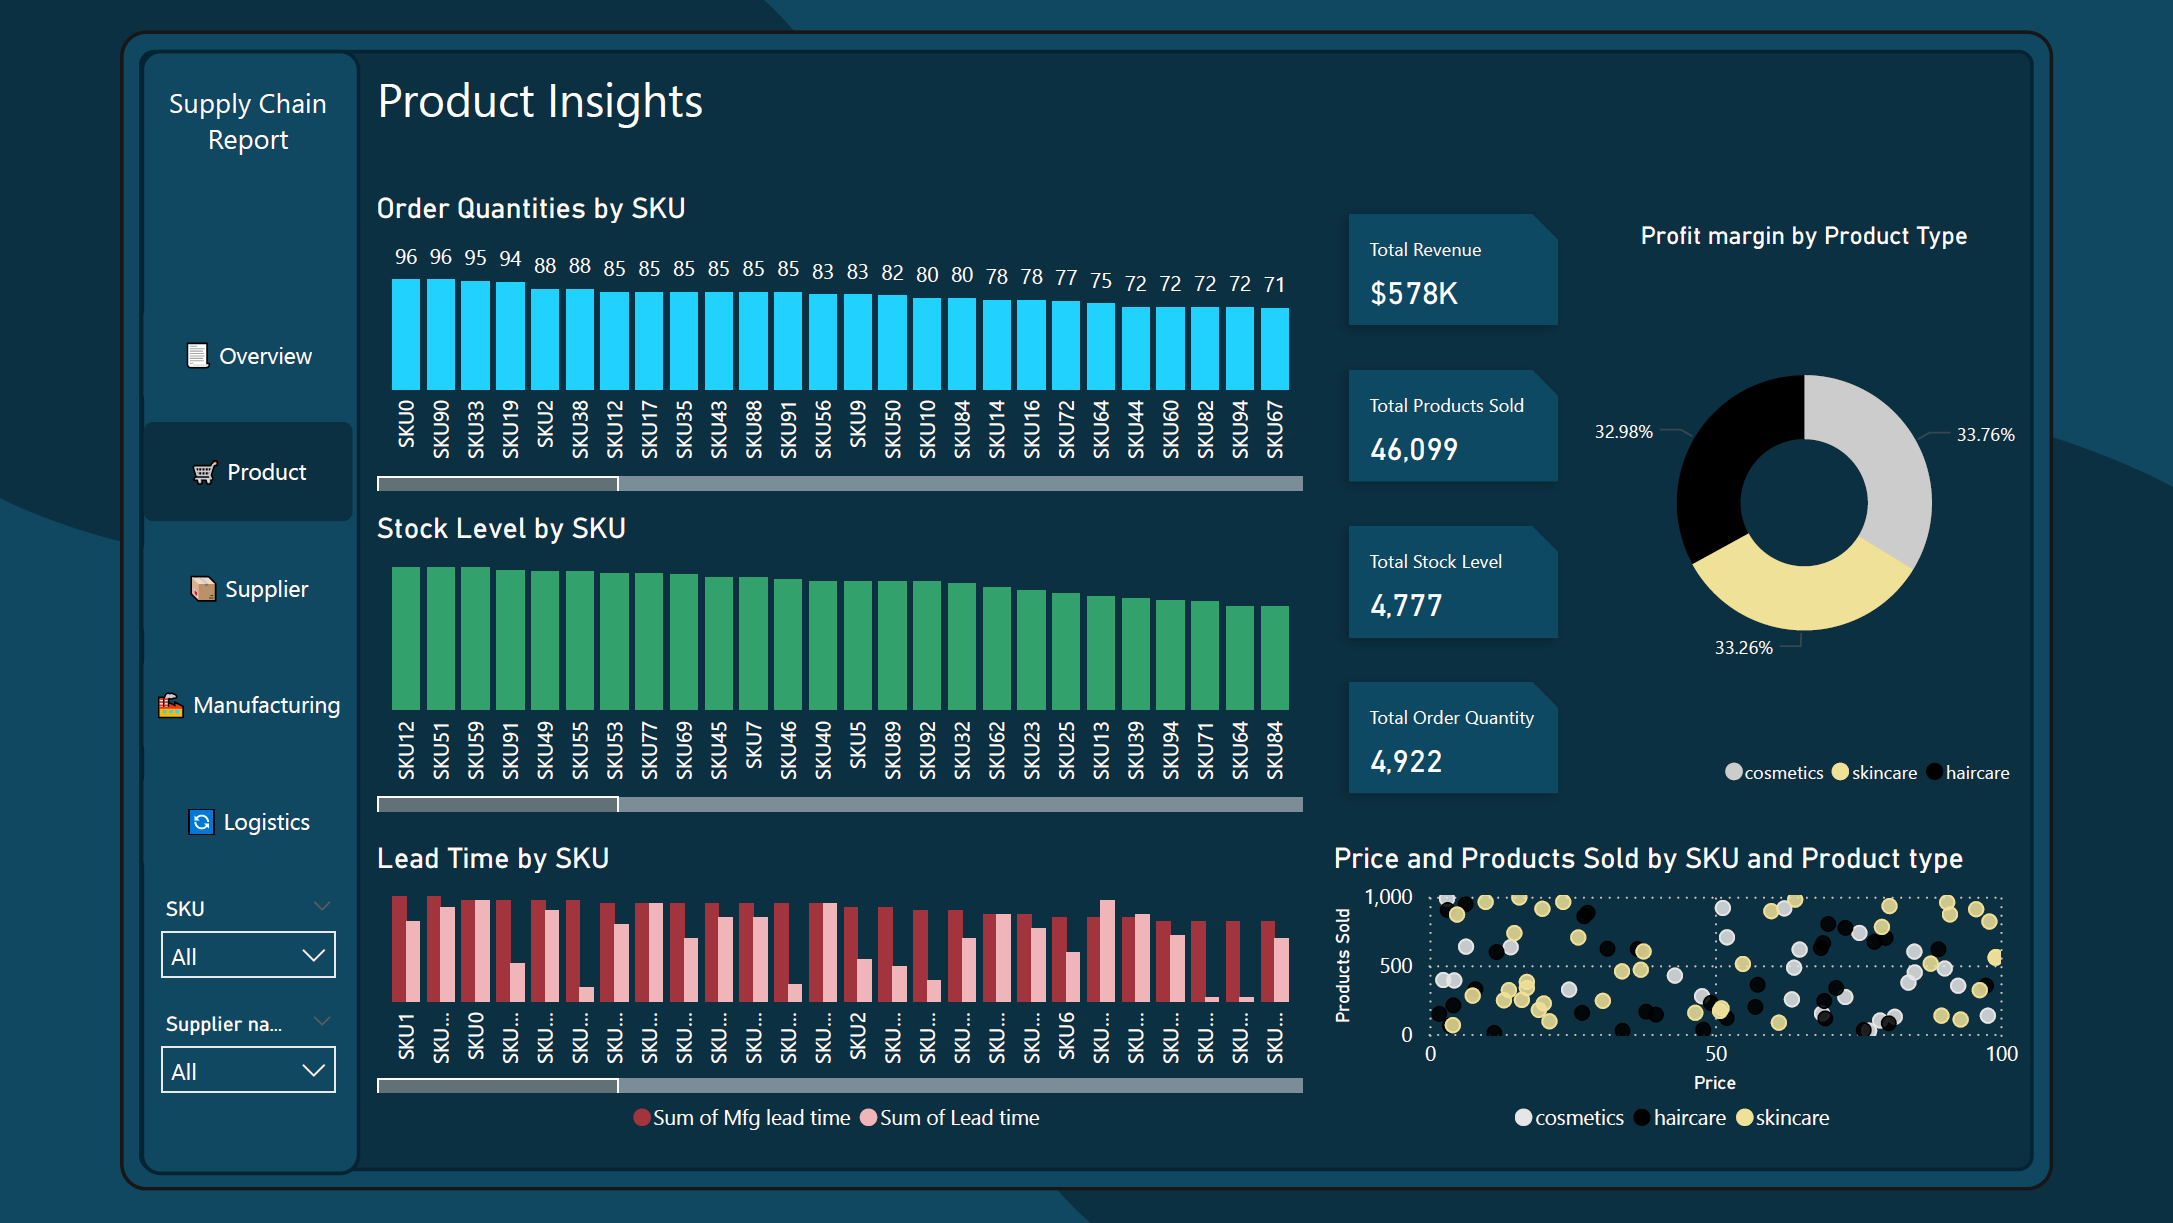

The page's visual inventory and layout, read from the dashboard file:
{"tool":"powerbi","page":{"name":"🛒  Product","canvas":[1280,720],"ordinal":1},"visuals":[{"type":"columnChart","title":"Order Quantities by SKU","fields":{"Y":["Measures (2).Total Order Quantity"],"Category":["supply_chain_data.SKU"]},"box":[220.9,115.3,550,180],"z":0},{"type":"pageNavigator","box":[90.3,181.2,122,330.7],"z":0,"group":"g1"},{"type":"textbox","box":[90.3,47.6,122,62.8],"z":1000,"group":"g1"},{"type":"columnChart","title":"Stock Level by SKU","fields":{"Category":["supply_chain_data.SKU"],"Y":["Measures (2).Total Stock Level"]},"box":[220.9,302,550.4,180],"z":1000},{"type":"clusteredColumnChart","title":"Lead Time by SKU","fields":{"Category":["supply_chain_data.SKU"],"Y":["Sum(supply_chain_data.Mfg lead time)","Sum(supply_chain_data.Lead time)"]},"box":[220.9,493.6,550.4,180],"z":2000},{"type":"slicer","fields":{"Values":["supply_chain_data.SKU"]},"box":[90.3,521.7,122,60.4],"z":2000,"group":"g1"},{"type":"cardVisual","fields":{"Data":["Measures (2).Total Revenue","Measures (2).Total Products Sold","Measures (2).Total Stock Level","Measures (2).Total Order Quantity"]},"box":[779.2,115.3,150.1,366.7],"z":3000},{"type":"slicer","fields":{"Values":["supply_chain_data.Supplier name"]},"box":[90.3,588.2,122,60.4],"z":3000,"group":"g1"},{"type":"donutChart","title":"Profit margin by Product Type","fields":{"Category":["supply_chain_data.Product type"],"Y":["Measures (2).Avg Profit Margin"]},"box":[929.3,133,258.7,338.6],"z":4000},{"type":"scatterChart","title":"Price and Products Sold by SKU and Product type","fields":{"Category":["supply_chain_data.SKU"],"X":["Sum(supply_chain_data.Price)"],"Y":["Measures (2).Total Products Sold"],"Series":["supply_chain_data.Product type"]},"box":[779.2,493.6,408.8,180],"z":5000},{"type":"textbox","box":[220.9,38.4,967.1,62.8],"z":6000},{"type":"group","id":"g1","title":"Group 1","box":[90.3,47.6,122,601],"z":7000}]}

Visuals, with their boxes in screenshot pixels (x1, y1, x2, y2), scaled from the page's 1280x720 canvas onto the 2173x1223 screenshot:
"Order Quantities by SKU" columnChart: (x1=375, y1=196, x2=1309, y2=502)
pageNavigator: (x1=153, y1=308, x2=360, y2=870)
textbox: (x1=153, y1=81, x2=360, y2=188)
"Stock Level by SKU" columnChart: (x1=375, y1=513, x2=1309, y2=819)
"Lead Time by SKU" clusteredColumnChart: (x1=375, y1=838, x2=1309, y2=1144)
slicer - supply_chain_data.SKU: (x1=153, y1=886, x2=360, y2=989)
cardVisual - Measures (2).Total Revenue x Measures (2).Total Products Sold: (x1=1323, y1=196, x2=1578, y2=819)
slicer - supply_chain_data.Supplier name: (x1=153, y1=999, x2=360, y2=1102)
"Profit margin by Product Type" donutChart: (x1=1578, y1=226, x2=2017, y2=801)
"Price and Products Sold by SKU and Product type" scatterChart: (x1=1323, y1=838, x2=2017, y2=1144)
textbox: (x1=375, y1=65, x2=2017, y2=172)
"Group 1" group: (x1=153, y1=81, x2=360, y2=1102)
